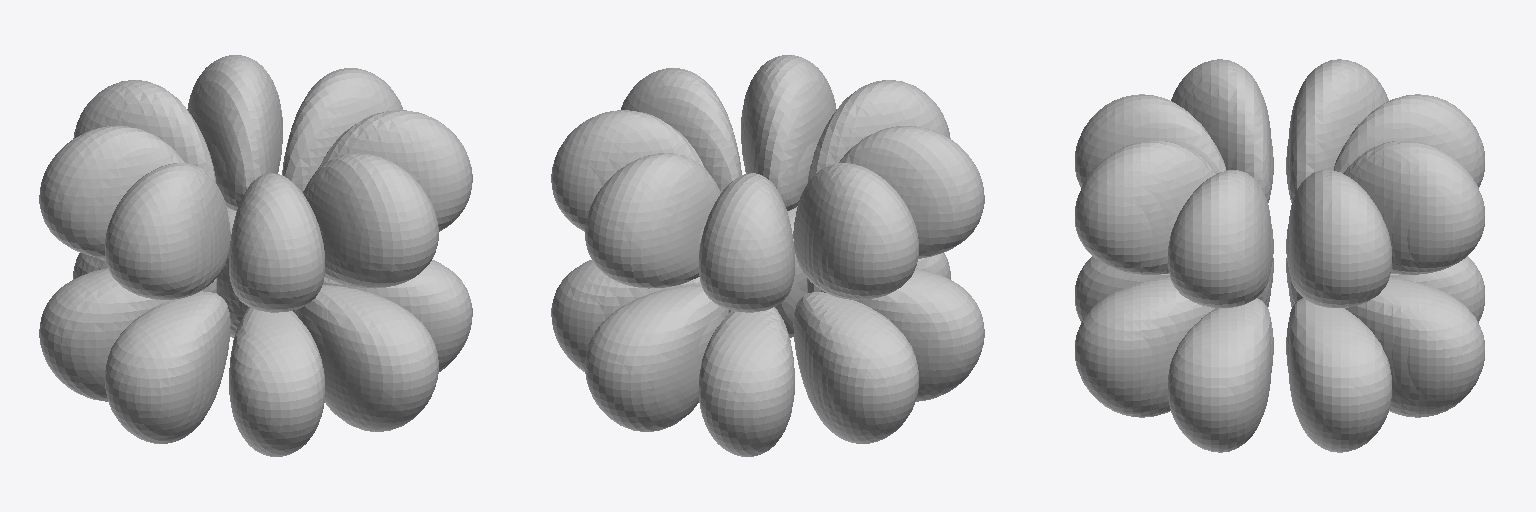
File: orb_n=6_ l=5 _m=-4.obj
The picture shows the model from 3 angles: view 1: azimuth 30°, elevation 25°; view 2: azimuth 150°, elevation 25°; view 3: azimuth 270°, elevation 25°; orthographic projection.
Visible parts, largest first — view 1: orb_n=6__l=5__m=-4; view 2: orb_n=6__l=5__m=-4; view 3: orb_n=6__l=5__m=-4.
Part boxes in pixels (x1,y1,x2,y2): orb_n=6__l=5__m=-4: (39, 55, 472, 456); orb_n=6__l=5__m=-4: (551, 55, 984, 456); orb_n=6__l=5__m=-4: (1075, 59, 1484, 452).
Bounding box in the file's own units: 114 × 82.63 × 114.